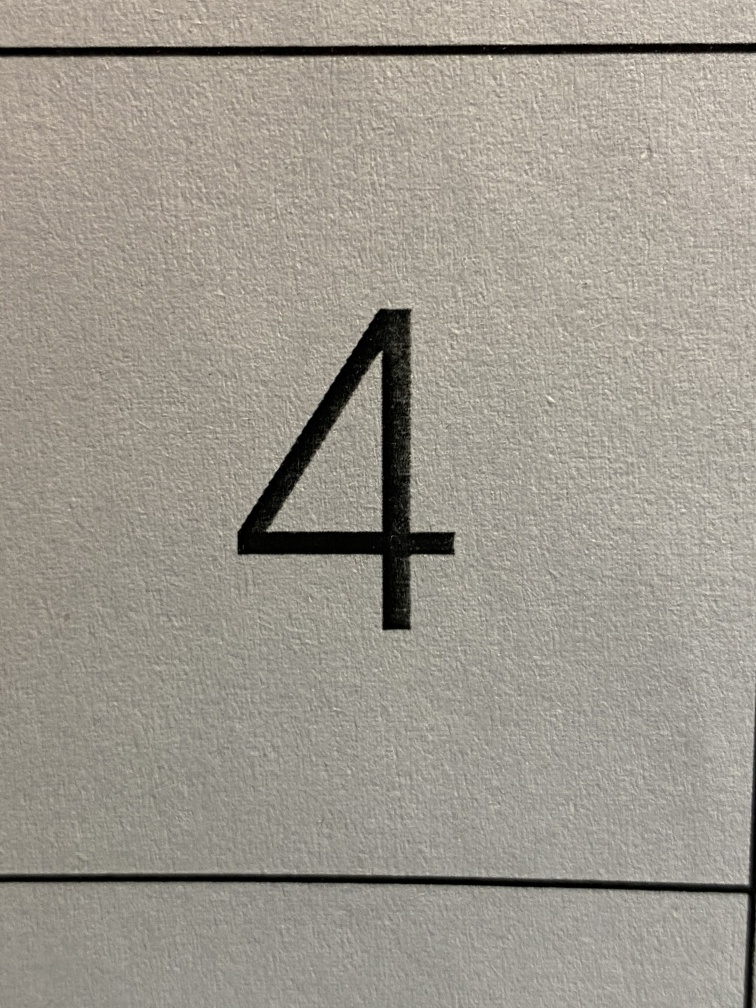four: (208, 264, 541, 688)
